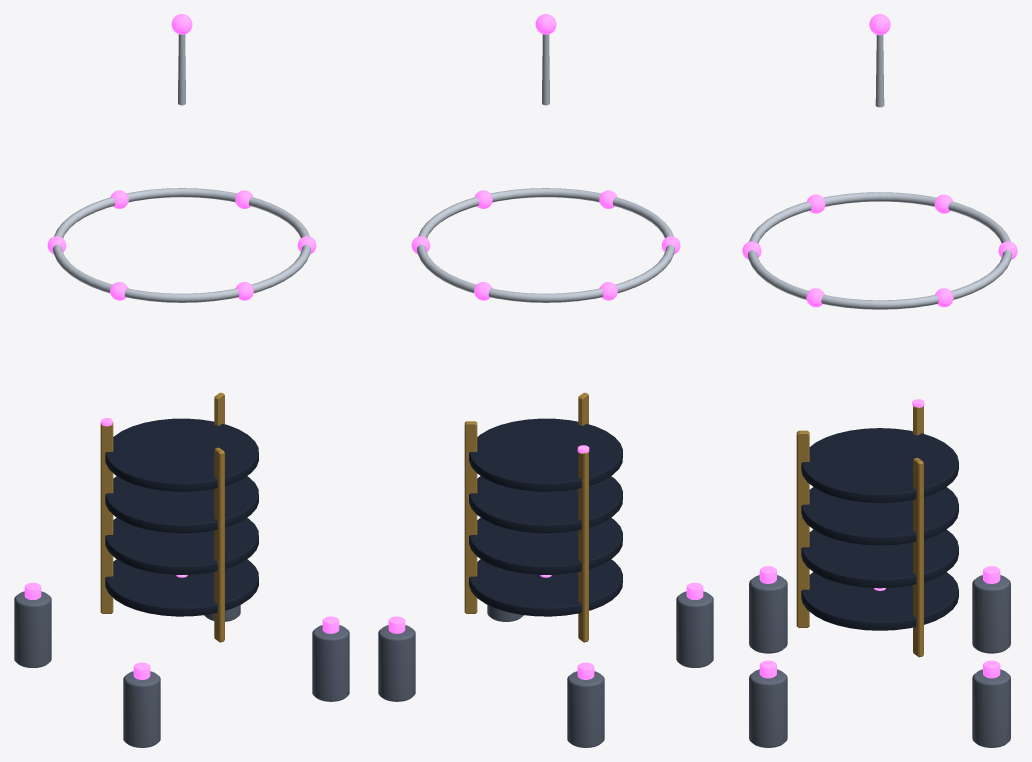
The model's file is tower_arc_damage_s6.glb.
3 renders of one model, left to right at view 1: azimuth 30°, elevation 25°; view 2: azimuth 150°, elevation 25°; view 3: azimuth 270°, elevation 25°, orthographic. The views are drawn at different scales.
Parts seen in each view (by area): view 1: arc_insulator_sleeve3, arc_insulator_sleeve2, arc_insulator_sleeve1, arc_insulator_sleeve0, arc_electrode_ring, arc_shock_cap2, arc_shock_cap3, arc_shock_cap0, arc_ground_strap0, arc_ground_strap2, arc_spire_ext; view 2: arc_insulator_sleeve3, arc_insulator_sleeve2, arc_insulator_sleeve1, arc_insulator_sleeve0, arc_electrode_ring, arc_shock_cap1, arc_shock_cap0, arc_shock_cap3, arc_ground_strap1, arc_ground_strap0, arc_spire_ext; view 3: arc_insulator_sleeve3, arc_insulator_sleeve2, arc_insulator_sleeve1, arc_insulator_sleeve0, arc_electrode_ring, arc_shock_cap0, arc_shock_cap3, arc_shock_cap1, arc_shock_cap2, arc_ground_strap2, arc_ground_strap1, arc_spire_ext.
Part boxes in pixels (<box>): arc_insulator_sleeve3: <box>105,418,258,491</box>; arc_insulator_sleeve2: <box>105,476,258,533</box>; arc_insulator_sleeve1: <box>105,517,258,574</box>; arc_insulator_sleeve0: <box>105,559,258,616</box>; arc_electrode_ring: <box>53,188,310,302</box>; arc_shock_cap2: <box>312,625,349,701</box>; arc_shock_cap3: <box>123,671,160,747</box>; arc_shock_cap0: <box>14,591,51,667</box>; arc_ground_strap0: <box>100,422,113,613</box>; arc_ground_strap2: <box>214,447,224,642</box>; arc_spire_ext: <box>178,34,185,105</box>; arc_insulator_sleeve3: <box>469,418,622,491</box>; arc_insulator_sleeve2: <box>469,476,622,533</box>; arc_insulator_sleeve1: <box>469,517,622,574</box>; arc_insulator_sleeve0: <box>469,559,622,616</box>; arc_electrode_ring: <box>417,188,674,302</box>; arc_shock_cap1: <box>378,625,415,701</box>; arc_shock_cap0: <box>567,671,604,747</box>; arc_shock_cap3: <box>676,591,713,667</box>; arc_ground_strap1: <box>464,421,477,613</box>; arc_ground_strap0: <box>578,452,588,642</box>; arc_spire_ext: <box>542,34,549,105</box>; arc_insulator_sleeve3: <box>801,428,958,503</box>; arc_insulator_sleeve2: <box>801,487,958,545</box>; arc_insulator_sleeve1: <box>801,529,958,588</box>; arc_insulator_sleeve0: <box>801,572,958,630</box>; arc_electrode_ring: <box>748,192,1011,309</box>; arc_shock_cap0: <box>972,575,1010,653</box>; arc_shock_cap3: <box>749,575,787,653</box>; arc_shock_cap1: <box>972,669,1010,747</box>; arc_shock_cap2: <box>749,669,787,747</box>; arc_ground_strap2: <box>796,430,809,627</box>; arc_ground_strap1: <box>913,457,923,657</box>; arc_spire_ext: <box>875,35,884,107</box>.
Size of the model in its own units: 1.24 by 3.51 by 1.29.
